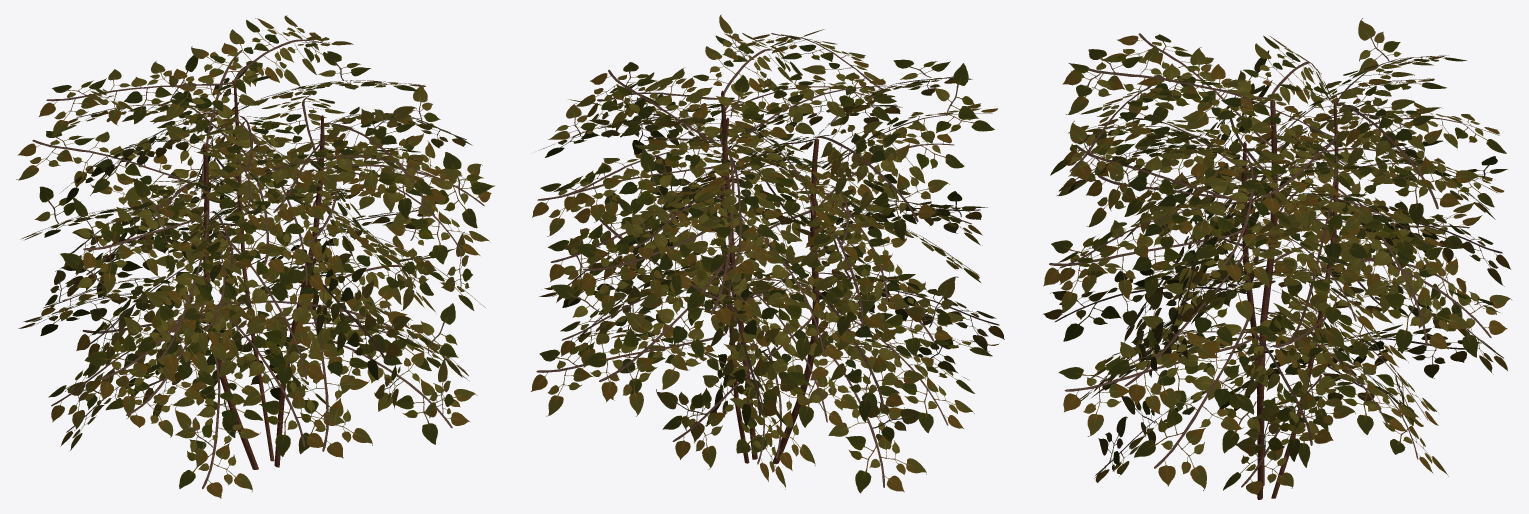
File: Bush.fbx
The picture shows the model from 3 angles, left to right: view 1: azimuth 30°, elevation 25°; view 2: azimuth 150°, elevation 25°; view 3: azimuth 270°, elevation 25°; orthographic projection. The views are drawn at different scales.
Parts seen in each view (by area): view 1: SM_COM_Bush_01.mo; view 2: SM_COM_Bush_01.mo; view 3: SM_COM_Bush_01.mo.
Boxes of the visible parts, x1,y1,x2,y2 form: SM_COM_Bush_01.mo: [16, 15, 494, 498]; SM_COM_Bush_01.mo: [531, 14, 1004, 493]; SM_COM_Bush_01.mo: [1043, 18, 1512, 499].
Bounding box in the file's own units: 223 × 200 × 208.
